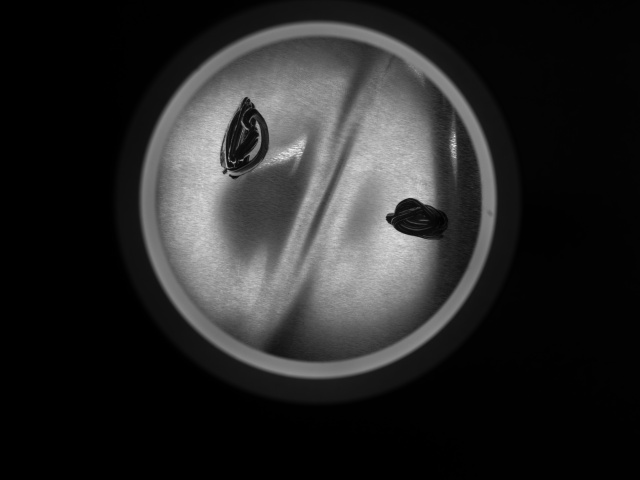zang_wu: (217, 96, 270, 181), (381, 197, 454, 244)
zhe_zhou: (199, 65, 436, 331)
